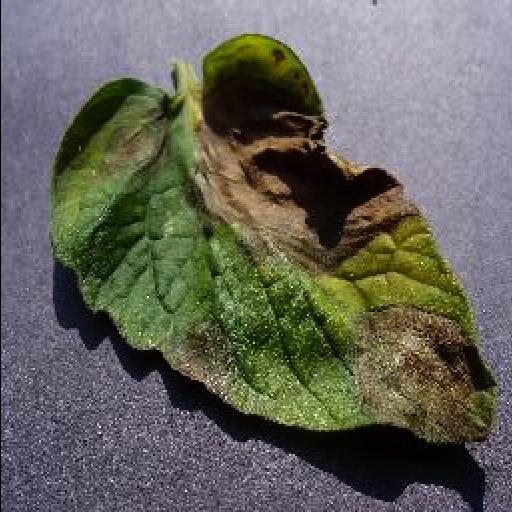disease_tomato: (50, 32, 496, 450)
